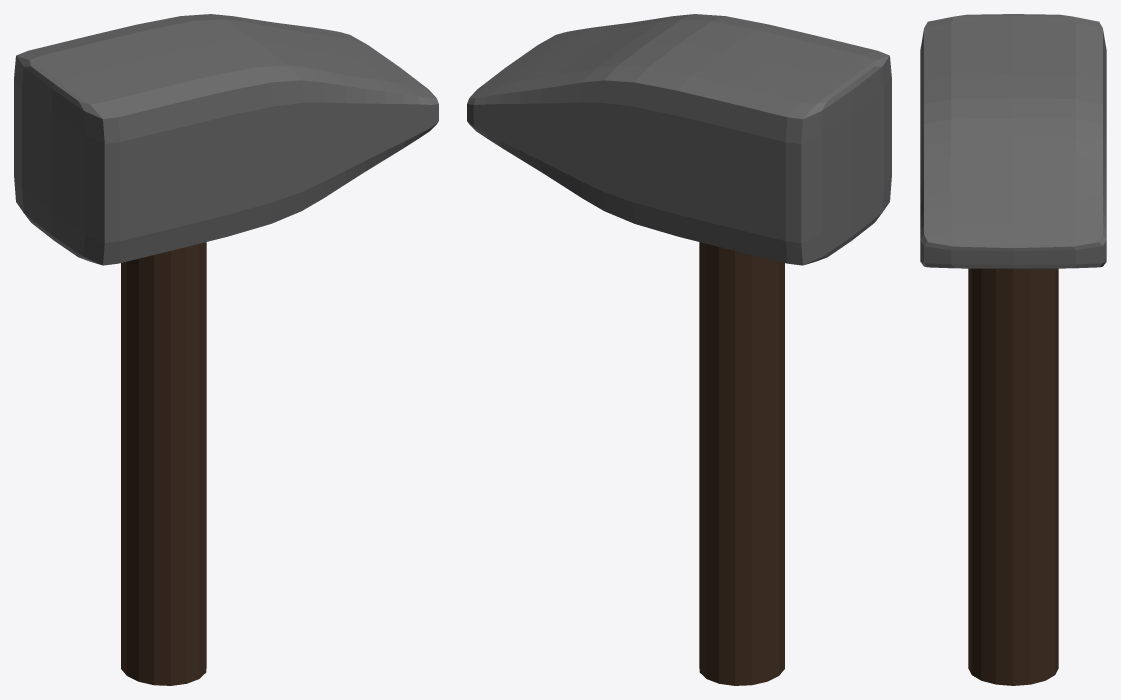
The model's file is Forge_Hammer.fbx.
The picture shows the model from 3 angles, left to right: view 1: azimuth 30°, elevation 25°; view 2: azimuth 150°, elevation 25°; view 3: azimuth 270°, elevation 25°; orthographic projection.
Visible parts, largest first — view 1: Hammer, Handle; view 2: Hammer, Handle; view 3: Hammer, Handle.
Part boxes in pixels (bbox=[...]): Hammer: bbox=[14, 14, 438, 265]; Handle: bbox=[121, 242, 206, 685]; Hammer: bbox=[467, 14, 891, 265]; Handle: bbox=[699, 242, 784, 685]; Hammer: bbox=[920, 14, 1106, 268]; Handle: bbox=[968, 268, 1058, 685].
Bounding box in the file's own units: 0.9146 × 1.53 × 0.4301.
